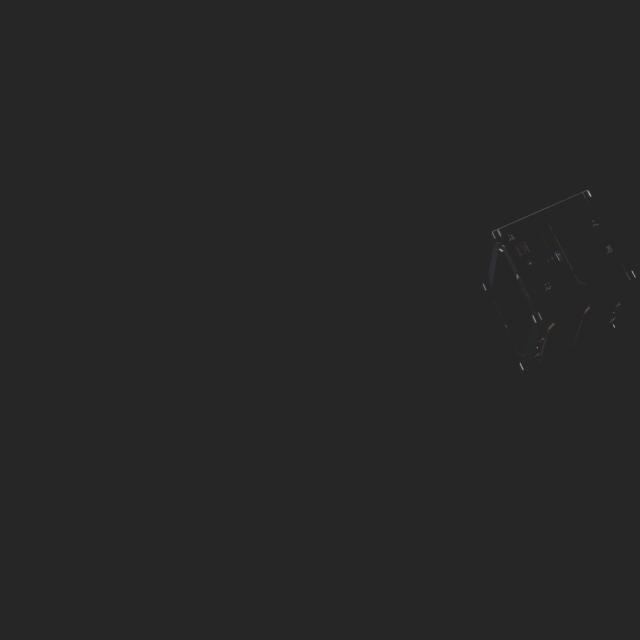medium_debris: (476, 190, 636, 382)
